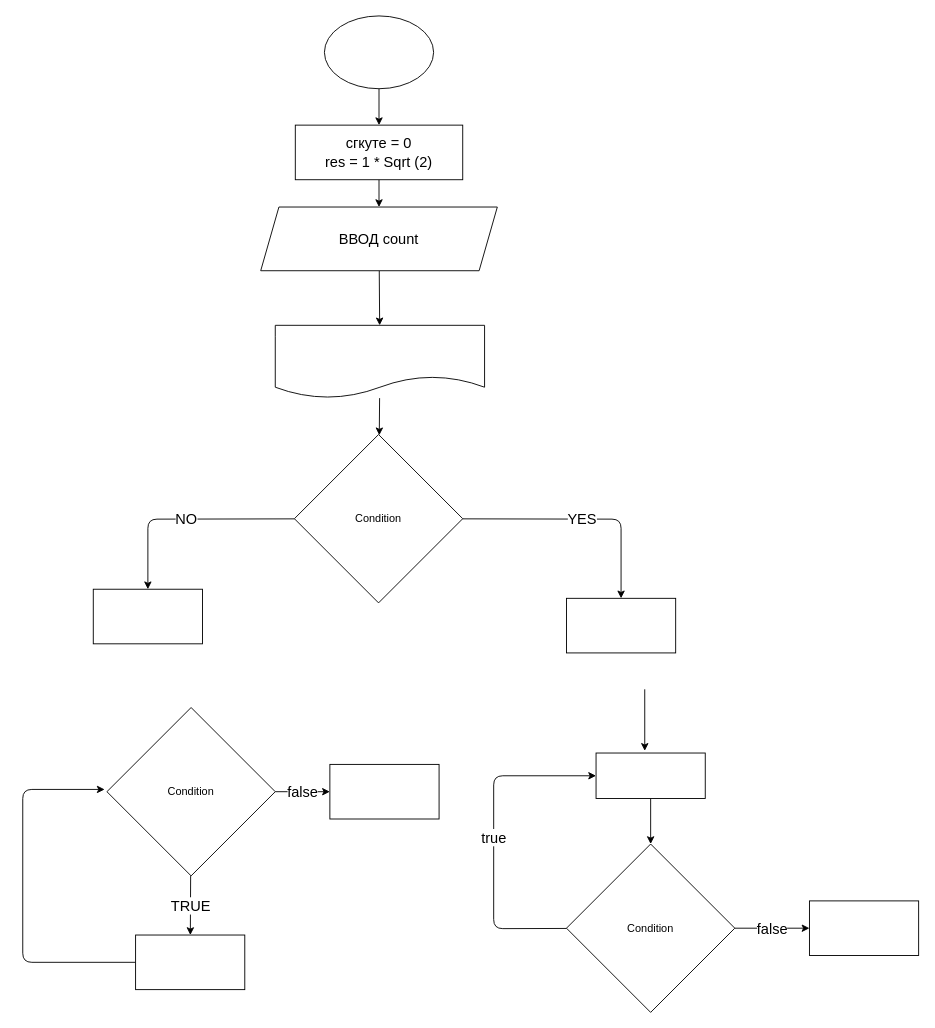
This 935x1028 diagram has some shape labels left out. Here are the shapes that lost their labels. From the top down, the centre of each, then its label:
At pixel 379 52: "START END".
At pixel 379 361: "ВЫВОД res".
